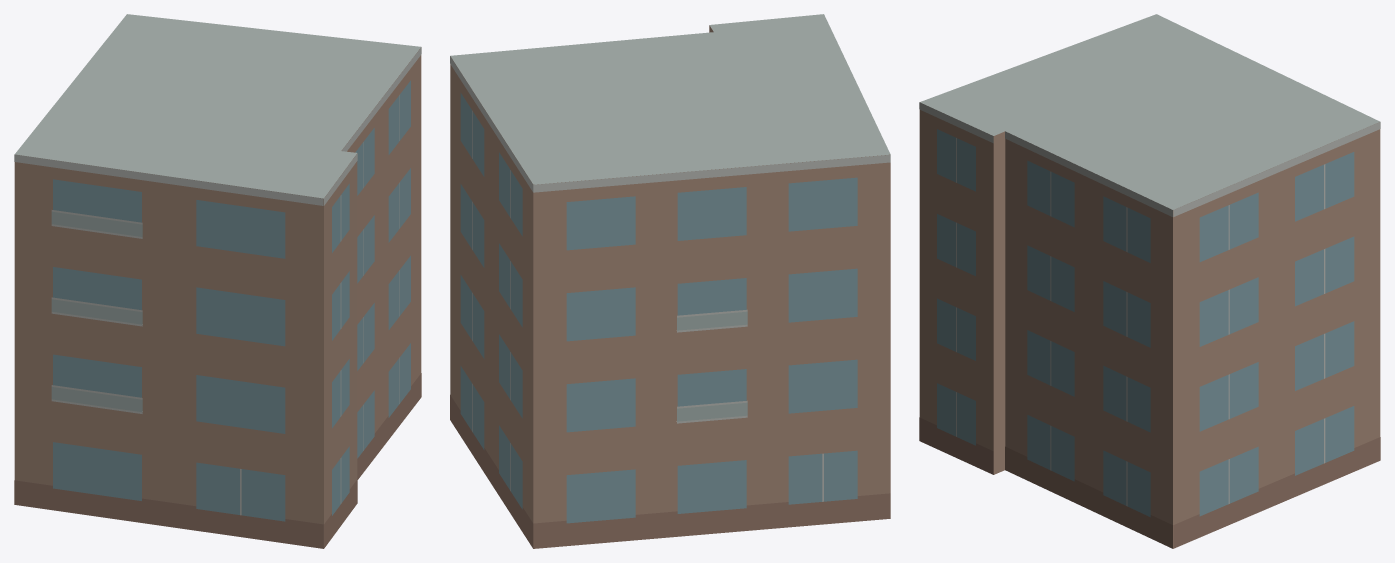
The model's file is survey-upis-32688787.glb.
3 views of the same model, side by side, from view 1: azimuth 30°, elevation 25°; view 2: azimuth 150°, elevation 25°; view 3: azimuth 270°, elevation 25° (orthographic). The views are drawn at different scales.
Visible parts, largest first — view 1: survey-upis-32688787.tmp; view 2: survey-upis-32688787.tmp; view 3: survey-upis-32688787.tmp.
Part boxes in pixels (box(x1,y1,x2,y2)): survey-upis-32688787.tmp: box(14, 14, 421, 548); survey-upis-32688787.tmp: box(450, 14, 890, 548); survey-upis-32688787.tmp: box(919, 14, 1380, 548).
Size of the model in its own units: 14.03 by 11.3 by 13.94.
